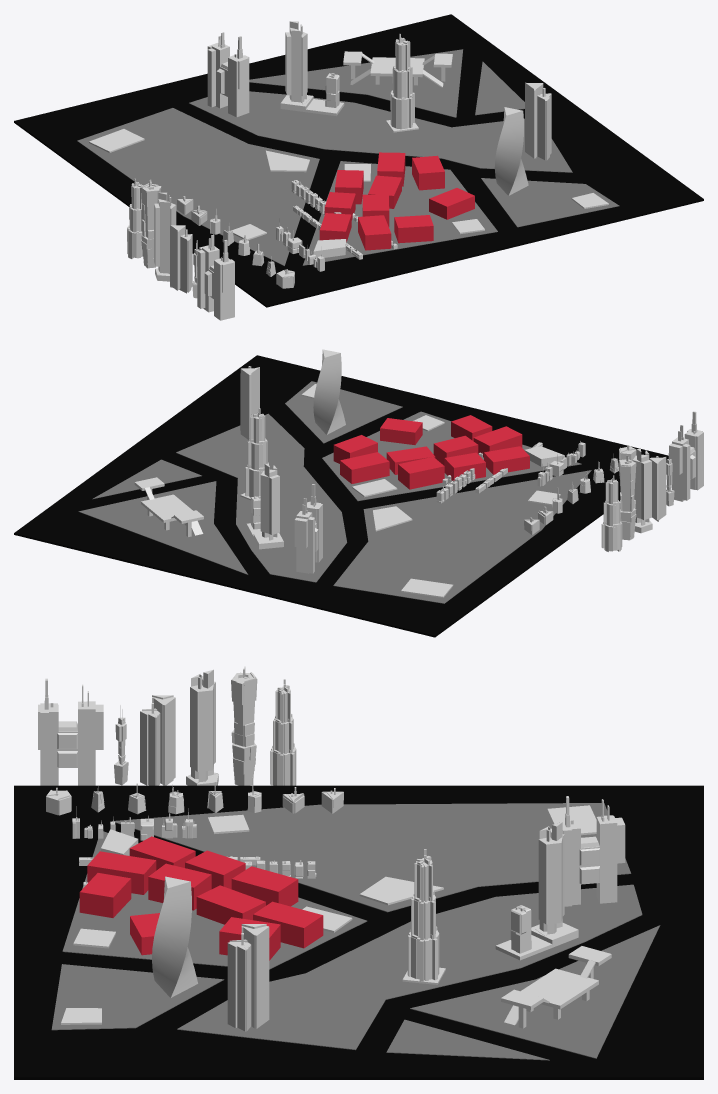
Rendered from mapDesign1.fbx.
The picture shows the model from 3 angles, top to bottom: view 1: azimuth 30°, elevation 25°; view 2: azimuth 150°, elevation 25°; view 3: azimuth 270°, elevation 25°; orthographic projection. The views are drawn at different scales.
Visible parts, largest first — view 1: Cube, Cube.010, Cube.023, Cube.011, Cube.014, Cube.012, Corporate_1.001, Corporate_1, Corporate_7, Corporate_3.001, Corporate_6.001, Corporate_4.001 (+20 smaller); view 2: Cube, Cube.010, Cube.023, Cube.014, Cube.011, Cube.012, Corporate_1, Corporate_7, Corporate_1.001, Corporate_6.001, Corporate_4.001, Corporate_4 (+21 smaller); view 3: Cube, Cube.010, Cube.023, Cube.014, Cube.012, Cube.011, Corporate_1.001, Corporate_1, Corporate_3.001, Corporate_7, Corporate_6.001, Corporate_3 (+25 smaller).
Boxes of the visible parts, x1,y1,x2,y2 form: Cube: (14, 14, 703, 307); Cube.010: (77, 108, 319, 266); Cube.023: (189, 91, 572, 172); Cube.011: (302, 161, 497, 265); Cube.014: (249, 49, 463, 117); Cube.012: (481, 178, 619, 227); Corporate_1.001: (207, 32, 249, 117); Corporate_1: (197, 234, 234, 320); Corporate_7: (494, 107, 528, 195); Corporate_3.001: (525, 82, 551, 160); Corporate_6.001: (390, 34, 414, 129); Corporate_4.001: (285, 21, 309, 104); Cube: (14, 355, 668, 637); Cube.010: (333, 470, 591, 603); Cube.023: (176, 413, 347, 582); Cube.014: (78, 481, 248, 574); Cube.011: (322, 411, 581, 501); Cube.012: (285, 381, 402, 443); Corporate_1: (669, 411, 703, 501); Corporate_7: (313, 349, 345, 434); Corporate_1.001: (294, 484, 322, 573); Corporate_6.001: (245, 408, 269, 497); Corporate_4.001: (260, 462, 279, 540); Corporate_4: (632, 448, 652, 533); Cube: (14, 785, 703, 1079); Cube.010: (112, 803, 631, 912); Cube.023: (177, 884, 642, 1050); Cube.014: (410, 925, 660, 1058); Cube.012: (51, 964, 224, 1030); Cube.011: (62, 831, 367, 969); Corporate_1.001: (557, 796, 625, 906); Corporate_1: (38, 678, 103, 785); Corporate_3.001: (227, 924, 269, 1031); Corporate_7: (152, 876, 197, 997); Corporate_6.001: (407, 849, 439, 981); Corporate_3: (140, 695, 175, 785).
Bounding box in the file's own units: 27394 × 5909 × 25000.
